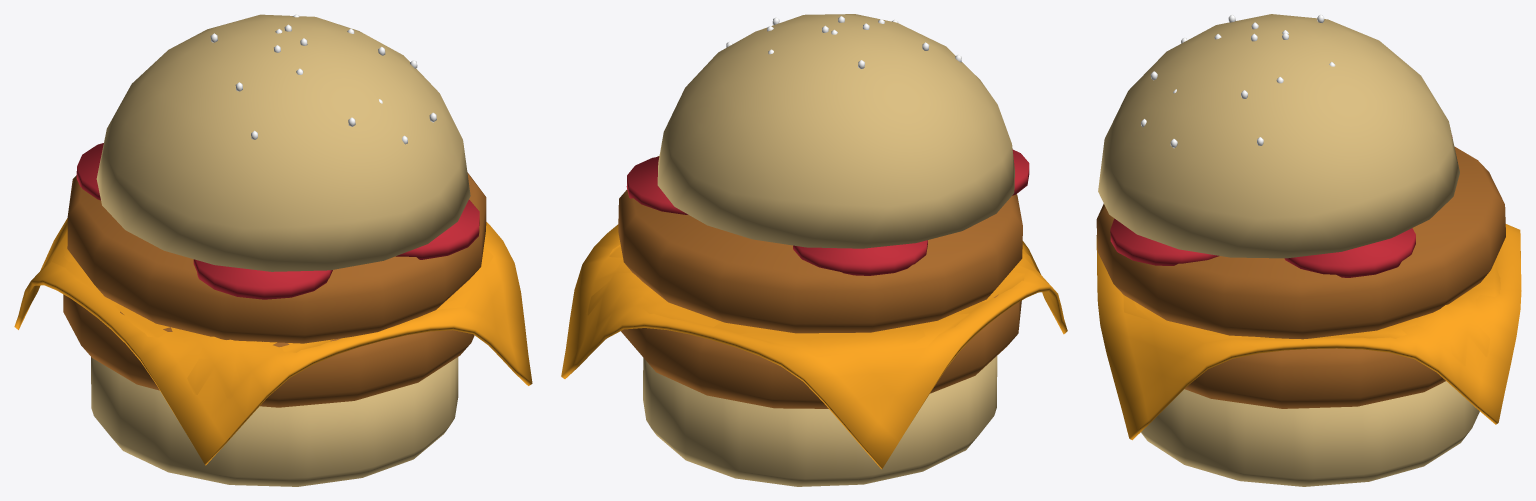
Rendered from Burger.fbx.
3 views of the same model, side by side, from view 1: azimuth 30°, elevation 25°; view 2: azimuth 150°, elevation 25°; view 3: azimuth 270°, elevation 25° (orthographic). The views are drawn at different scales.
Parts seen in each view (by area): view 1: Burger; view 2: Burger; view 3: Burger.
Part boxes in pixels (left/top/right/bottom): Burger: left=14, top=14, right=532, bottom=486; Burger: left=561, top=14, right=1067, bottom=486; Burger: left=1096, top=14, right=1521, bottom=486.
Bounding box in the file's own units: 30.05 × 30.05 × 30.05.
